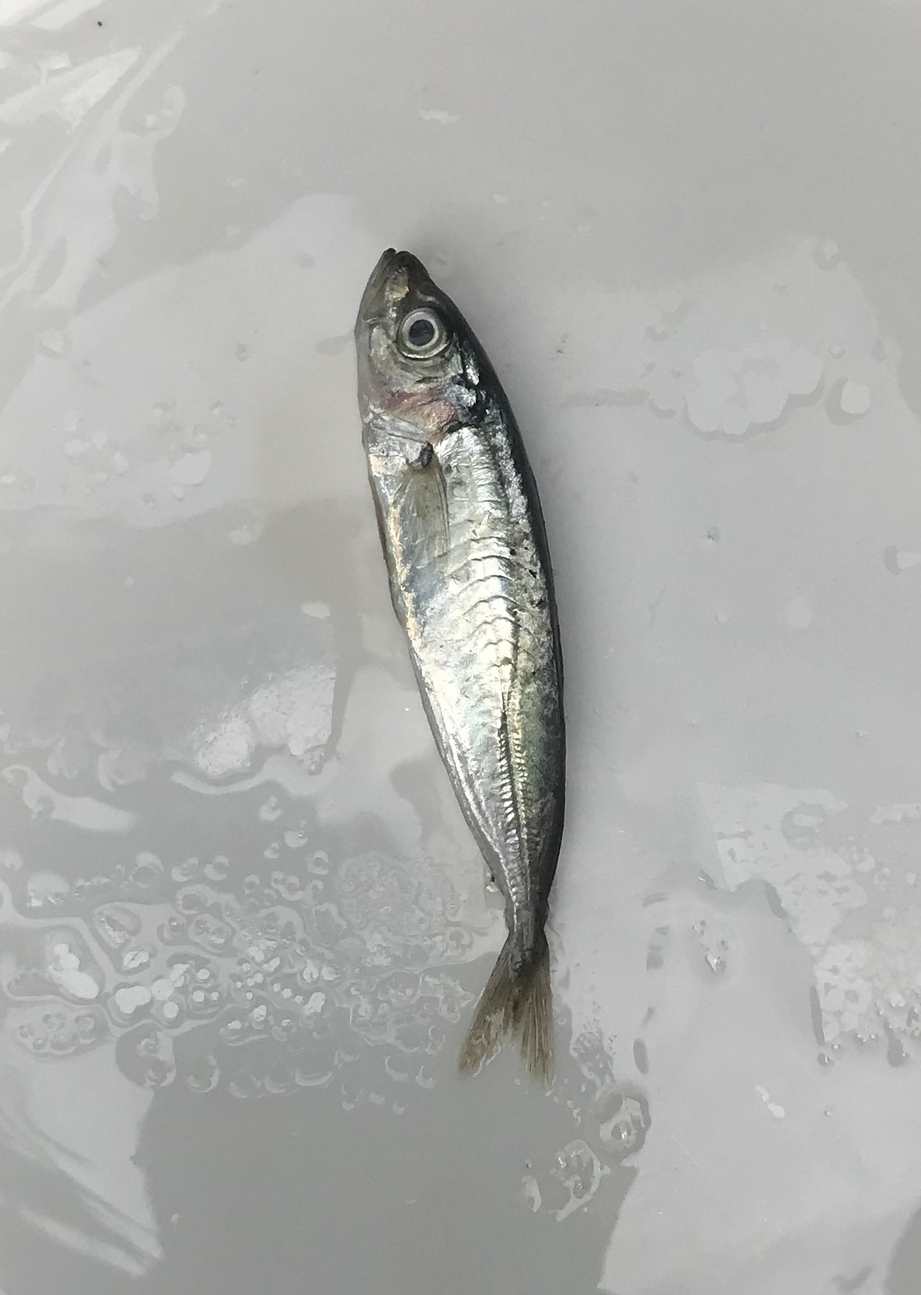burot_not_dried: (1, 234, 651, 1295), (888, 1210, 921, 1295)
